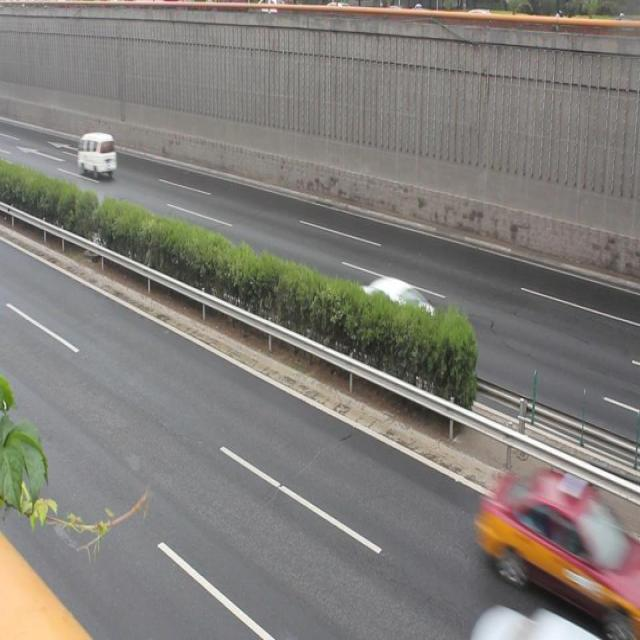car: (481, 466, 618, 609), (335, 274, 436, 351)
